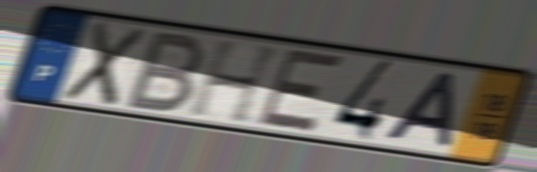4: (329, 56, 397, 145)
A: (380, 69, 462, 152)
B: (120, 29, 210, 116)
E: (253, 46, 350, 135)
H: (184, 37, 288, 127)
X: (58, 17, 151, 110)
